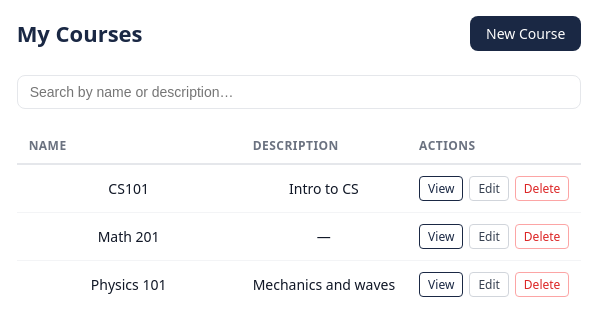
MyCourseView › shows no-courses-filtered when filters match nothing
Type "zzznomatch" into the field with test id "search-input" at (299,92), box [17,75,581,109]
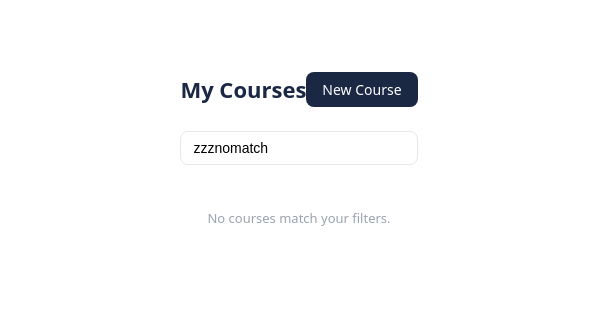
expect the text "No courses match your filters." is shown: met, box [207,209,391,227]
